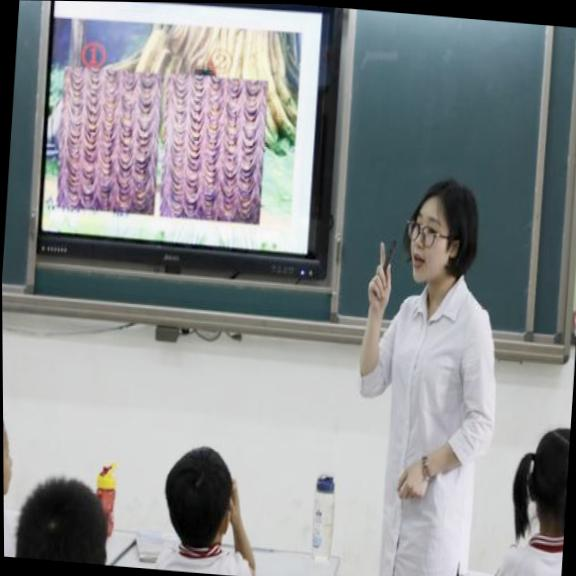no_safety_vest: (365, 286, 508, 521)
